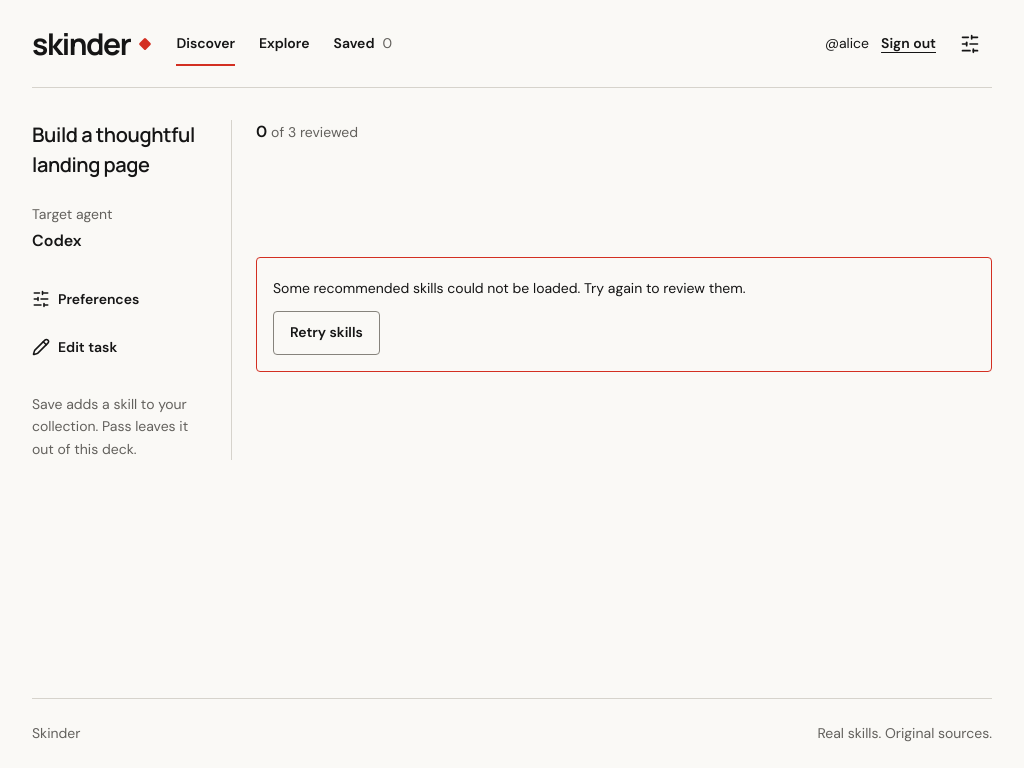
Test: skill discovery › offers a retry for failed recommendation details without claiming the deck is empty
This screenshot has width=1024, height=768.
Click the button "Retry skills".
click(326, 333)  # box [273, 311, 380, 355]
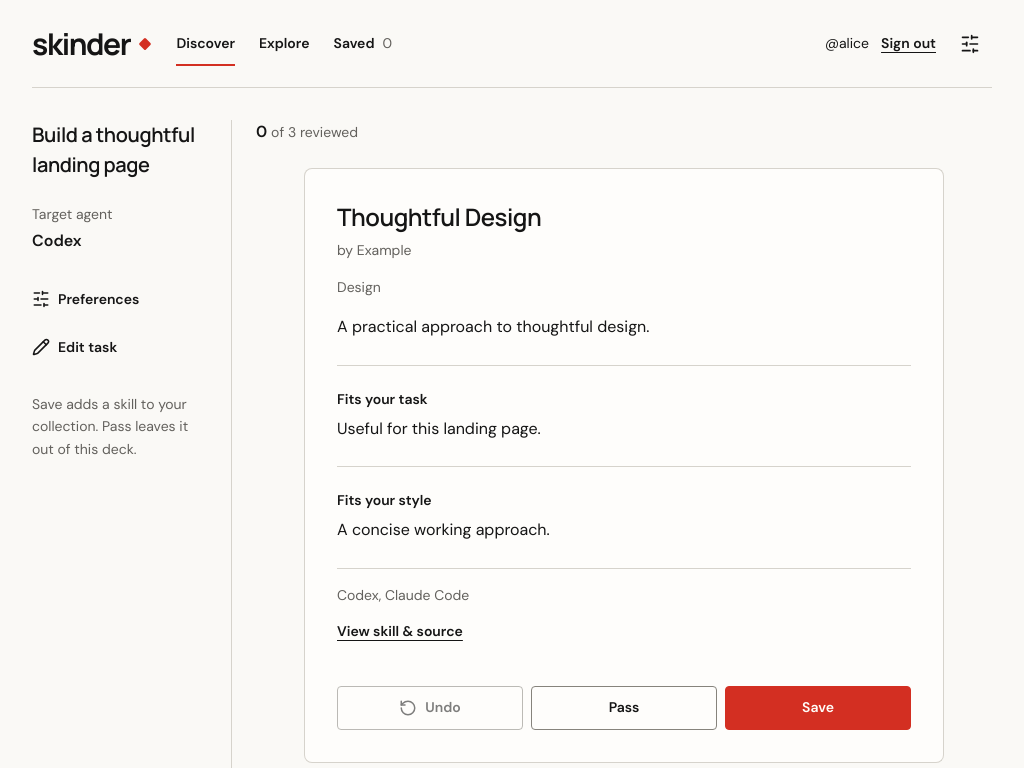
Result: the heading "Thoughtful Design" is shown at [337, 200, 541, 233]
